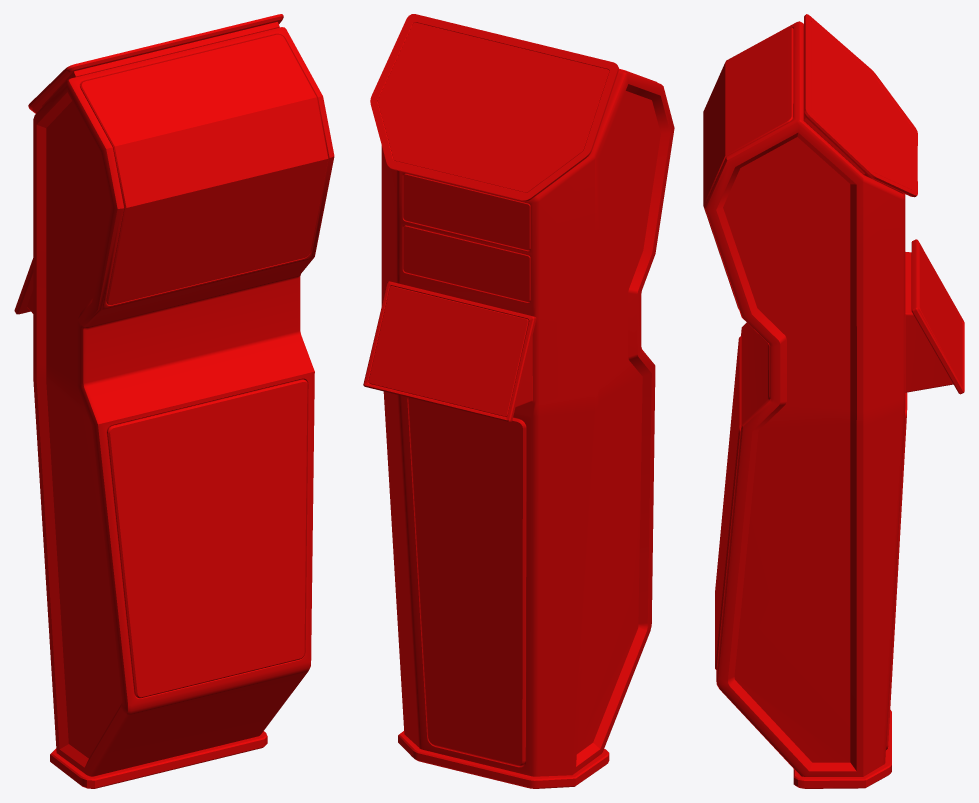
The model's file is Panel_2.fbx.
3 views of the same model, side by side, from view 1: azimuth 30°, elevation 25°; view 2: azimuth 150°, elevation 25°; view 3: azimuth 270°, elevation 25° (orthographic). The views are drawn at different scales.
Visible parts, largest first — view 1: L7:polySurface111; view 2: L7:polySurface111; view 3: L7:polySurface111.
Part boxes in pixels (bbox=[...]): L7:polySurface111: bbox=[14, 14, 334, 788]; L7:polySurface111: bbox=[363, 14, 674, 788]; L7:polySurface111: bbox=[703, 14, 964, 788].
Bounding box in the file's own units: 54.05 × 165 × 57.16.
